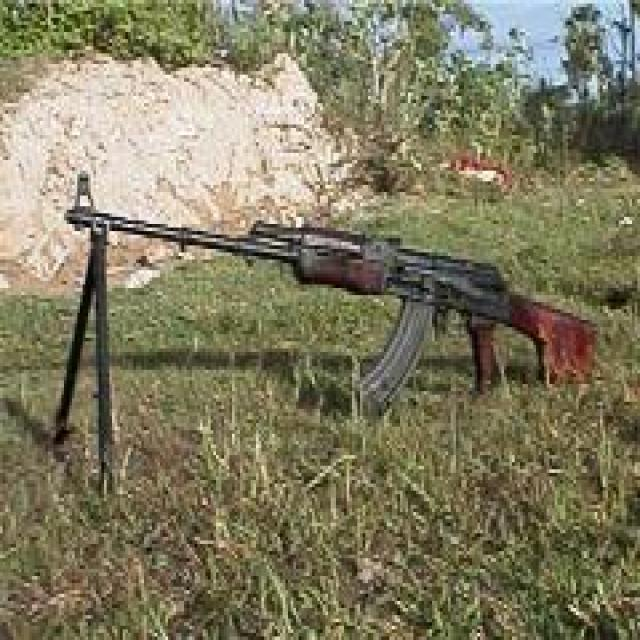Gun: (56, 183, 600, 411)
